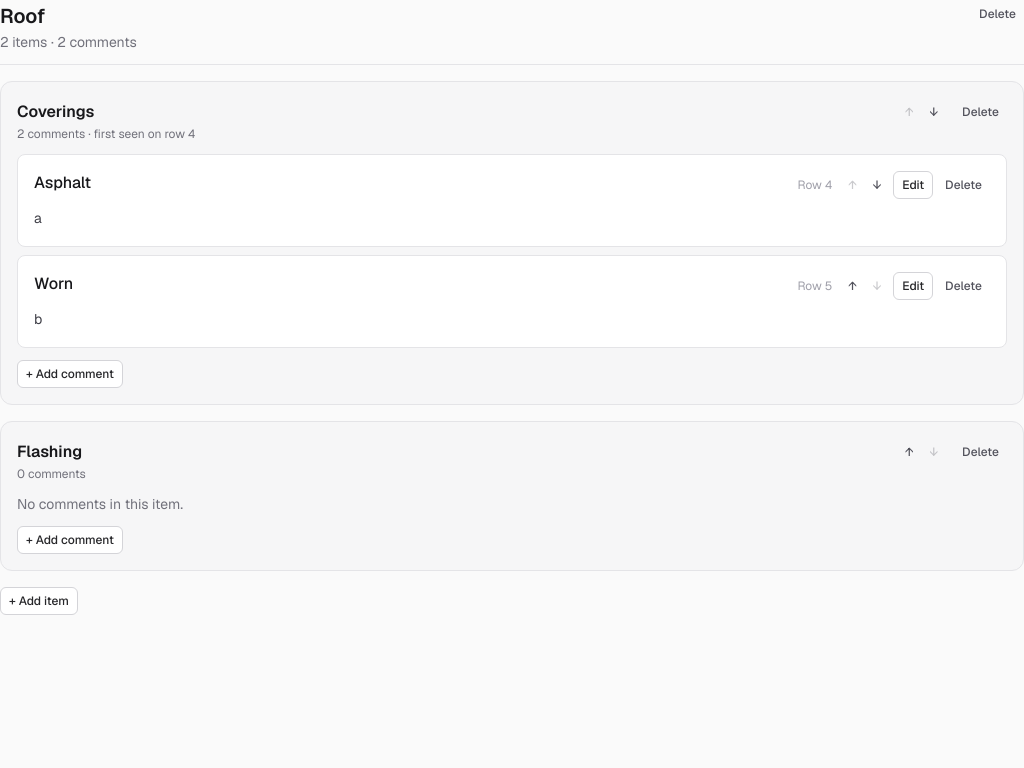
Scenario: SectionPanel › shows counts, order controls and consequences of deleting
The width and height of the screenshot is (1024, 768).
Expected: the text "2 items · 2 comments" is shown, [0,33,137,51]
Expected: the text "2 comments · first seen on row 4" is shown, [17,126,195,142]
Step 1. Click the button with aria-label "Delete Roof" → (998, 14), box [971,0,1023,28]
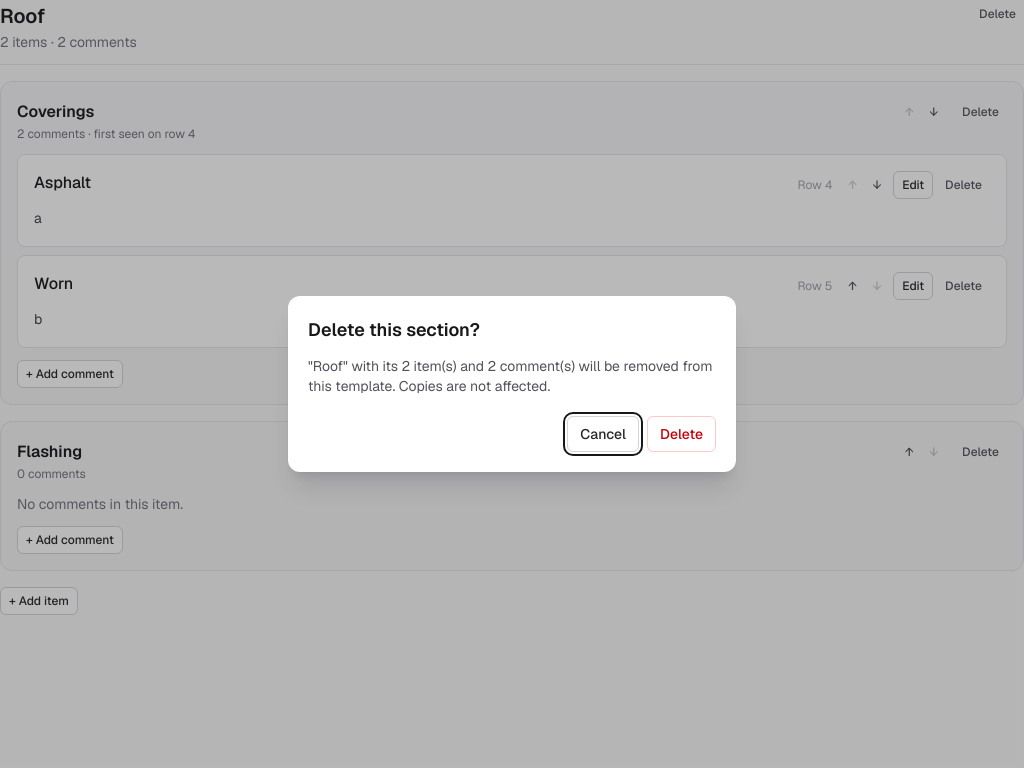
Result: the text "with its 2 item(s) and 2 comment(s) will be removed" is shown at [308,357,712,395]
